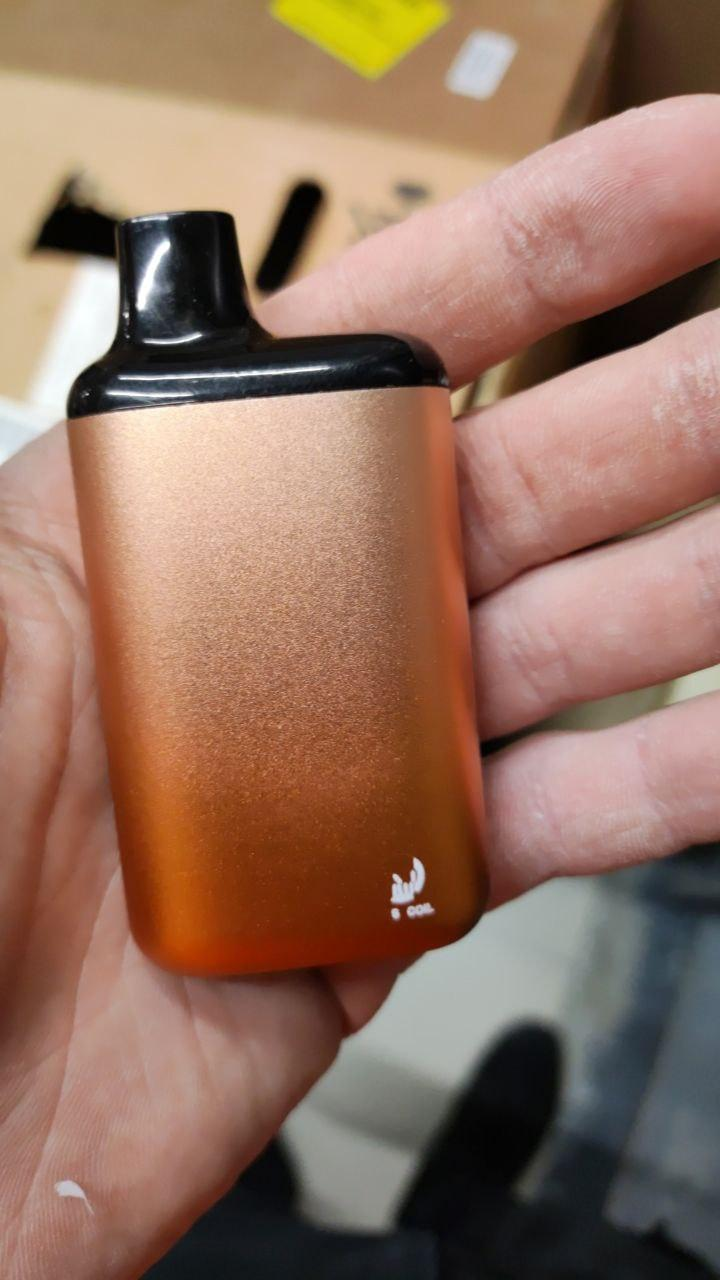Vape: (67, 212, 486, 976)
